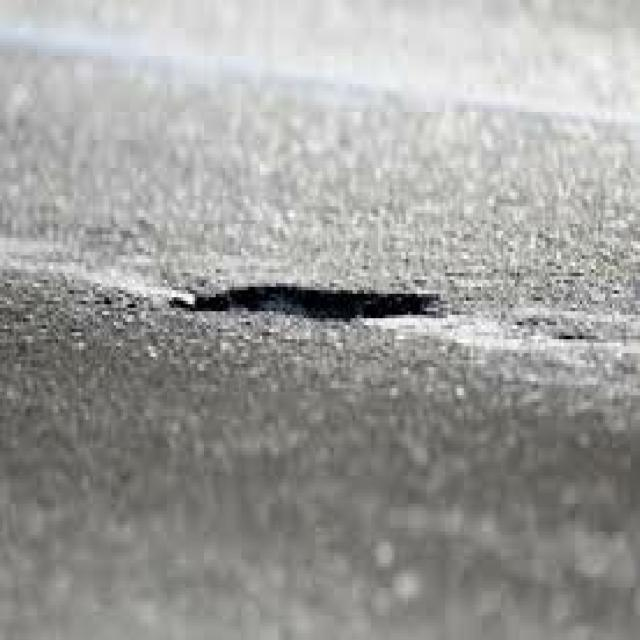Buraco: (164, 278, 454, 328)
